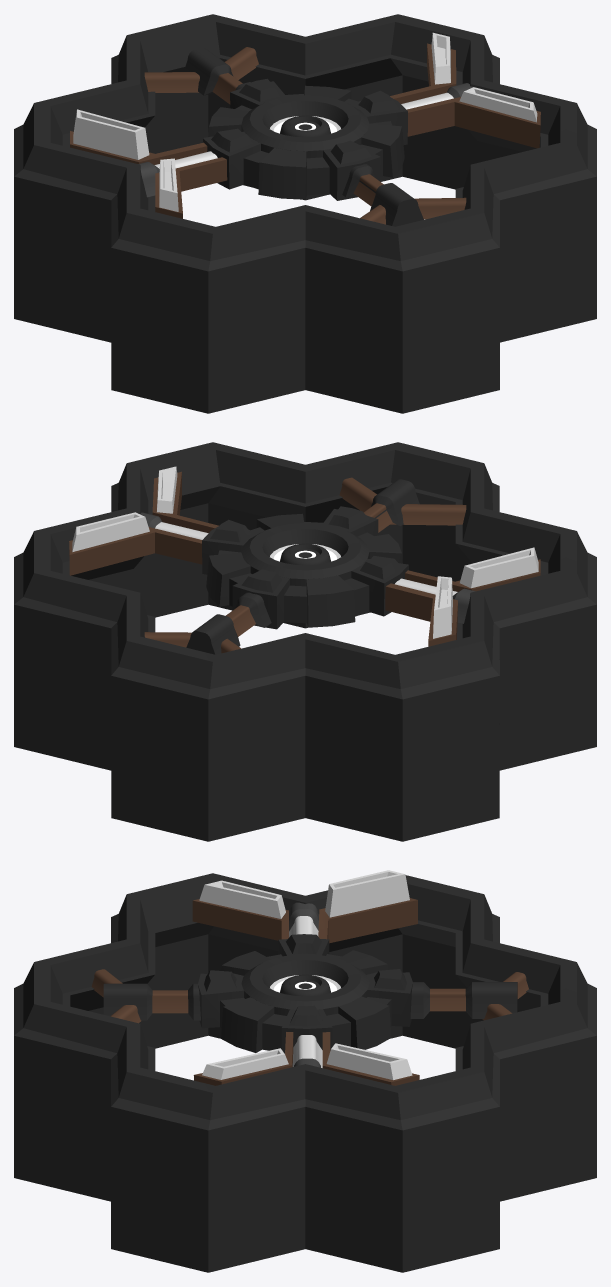
Rendered from SM_Prop_Spacestation_01.fbx.
3 views of the same model, one above another, from view 1: azimuth 30°, elevation 25°; view 2: azimuth 150°, elevation 25°; view 3: azimuth 270°, elevation 25° (orthographic).
Visible parts, largest first — view 1: SM_Prop_Spacestation_01; view 2: SM_Prop_Spacestation_01; view 3: SM_Prop_Spacestation_01.
Part boxes in pixels (x1,y1,x2,y2): SM_Prop_Spacestation_01: (14, 14, 596, 413); SM_Prop_Spacestation_01: (14, 442, 596, 841); SM_Prop_Spacestation_01: (14, 870, 596, 1272).
Bounding box in the file's own units: 10 × 10.39 × 3.79.
